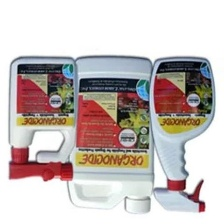insecticide: (65, 52, 158, 215), (147, 54, 217, 214), (3, 52, 82, 183)
